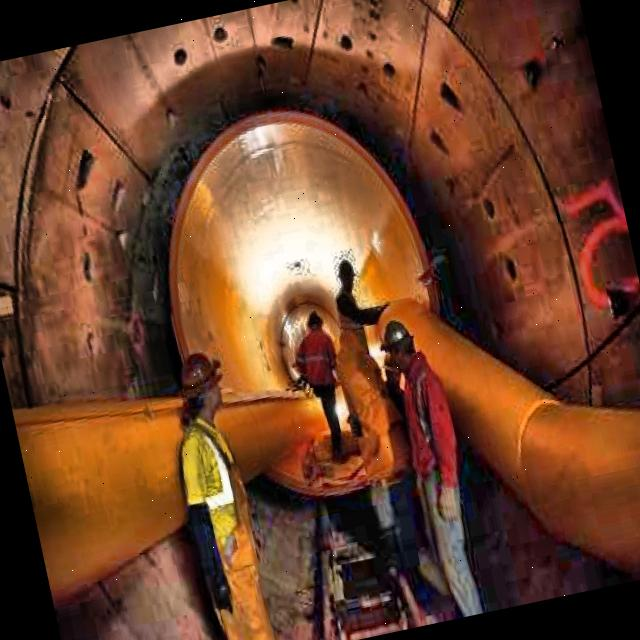helmet: (172, 339, 228, 420), (374, 304, 429, 384), (332, 253, 365, 298)
